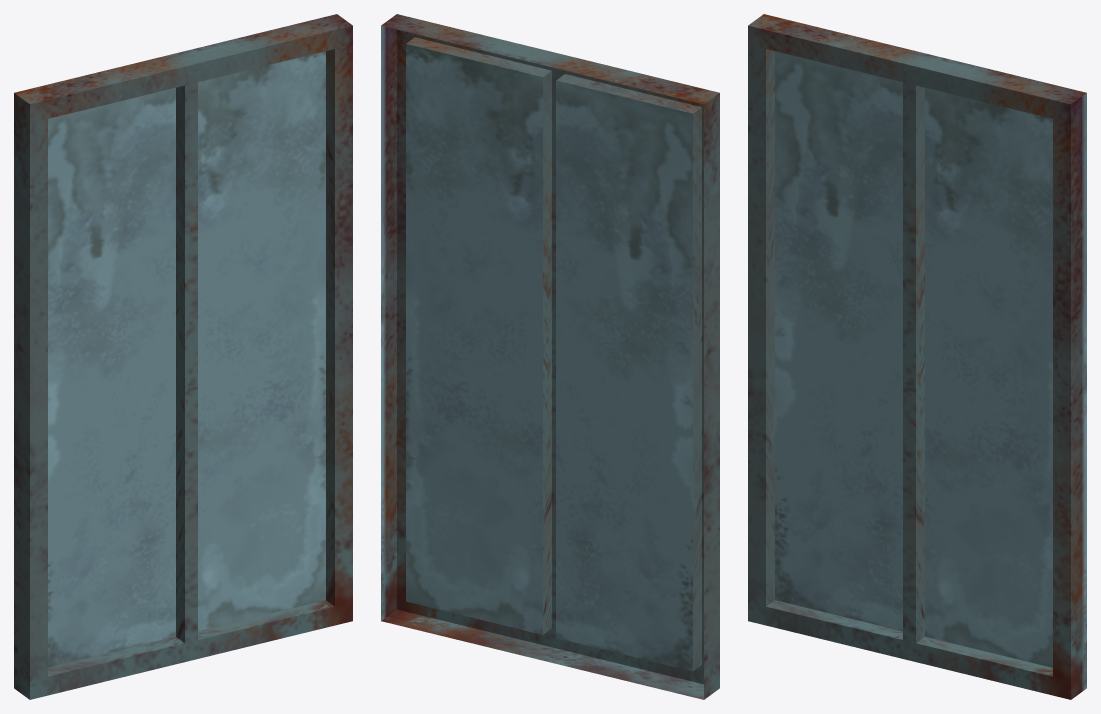
Rendered from PortaVidro.fbx.
3 views of the same model, side by side, from view 1: azimuth 30°, elevation 25°; view 2: azimuth 150°, elevation 25°; view 3: azimuth 330°, elevation 25° (orthographic).
Parts seen in each view (by area): view 1: PortaVidro; view 2: PortaVidro; view 3: PortaVidro.
Boxes of the visible parts, x1=… form: PortaVidro: x1=14, y1=14, x2=352, y2=699; PortaVidro: x1=381, y1=14, x2=719, y2=699; PortaVidro: x1=748, y1=14, x2=1086, y2=699.
Size of the model in its own units: 338 by 596 by 28.8.
